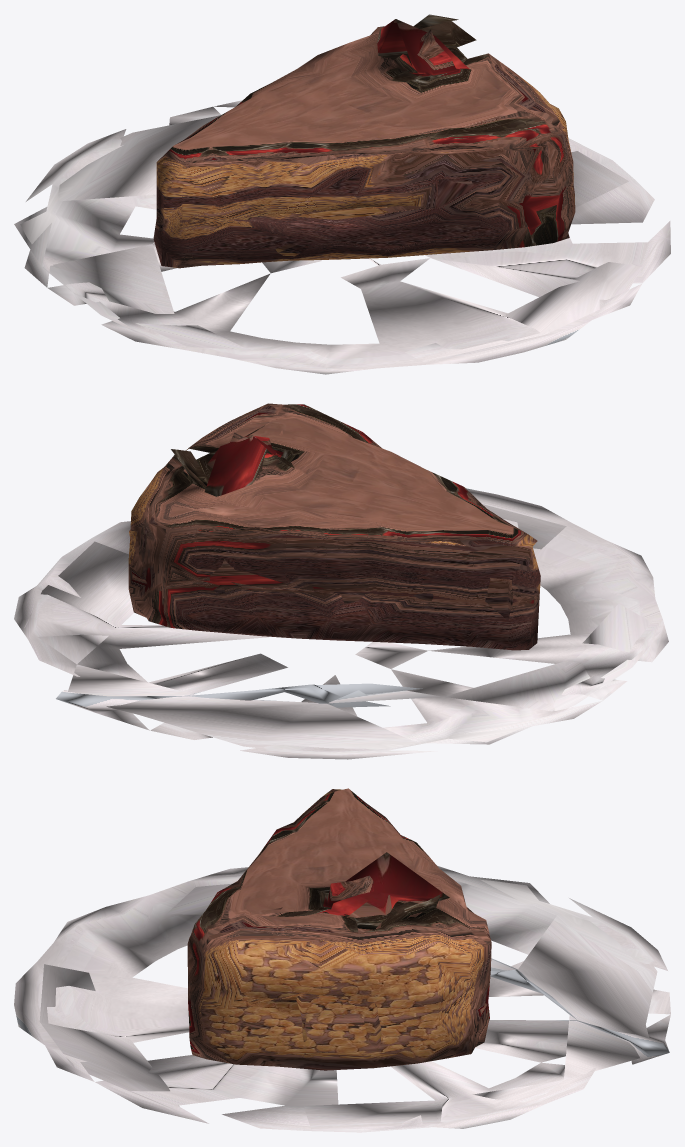
File: cake_slice.gltf
3 views of the same model, one above another, from view 1: azimuth 30°, elevation 25°; view 2: azimuth 150°, elevation 25°; view 3: azimuth 270°, elevation 25° (orthographic).
Visible parts, largest first — view 1: CakeSlice, Plate, Plate_Coarse, CakeSlice_Coarse; view 2: CakeSlice, Plate, Plate_Coarse, CakeSlice_Coarse; view 3: CakeSlice, Plate, Plate_Coarse, CakeSlice_Coarse.
Part boxes in pixels (x1,y1,x2,y2): CakeSlice: (153, 14, 575, 268); Plate: (20, 100, 670, 374); Plate_Coarse: (14, 115, 661, 361); CakeSlice_Coarse: (237, 19, 509, 257); CakeSlice: (128, 403, 540, 650); Plate: (14, 488, 668, 759); Plate_Coarse: (24, 504, 661, 748); CakeSlice_Coarse: (174, 415, 513, 641); CakeSlice: (187, 788, 491, 1070); Plate: (14, 865, 670, 1132); Plate_Coarse: (39, 873, 657, 1128); CakeSlice_Coarse: (243, 852, 449, 1058).
Size of the model in its own units: 0.2483 by 0.0858 by 0.2557.
2 materials, 2 textured.
